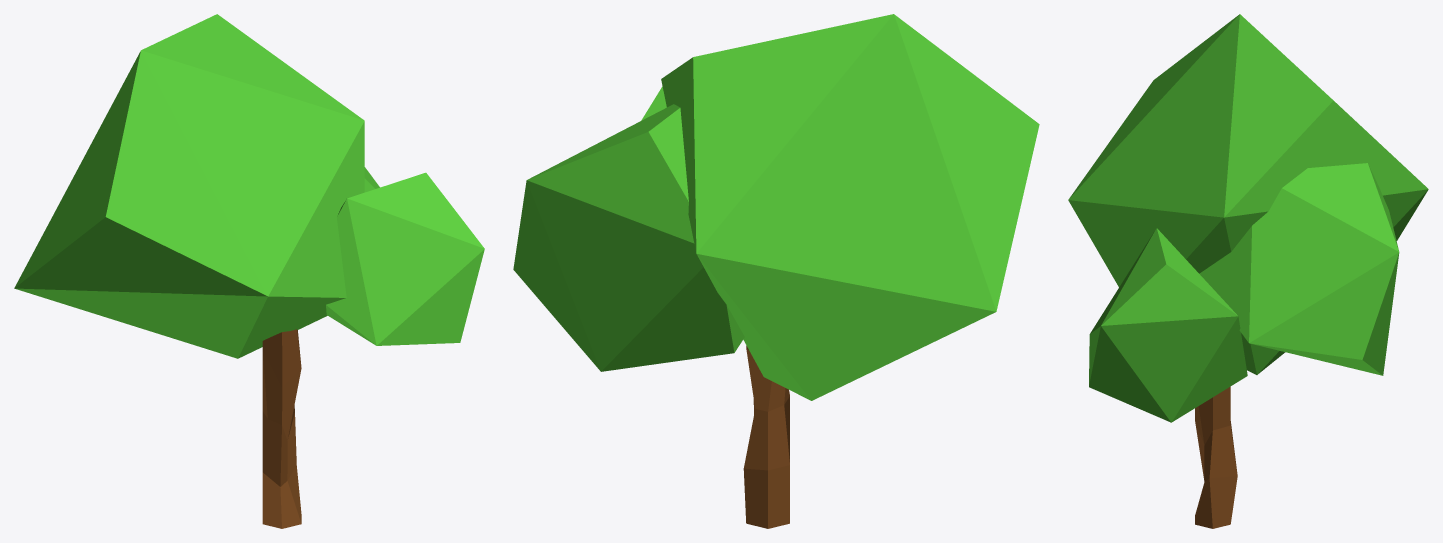
Rendered from tree4.FBX.
3 renders of one model, left to right at view 1: azimuth 30°, elevation 25°; view 2: azimuth 150°, elevation 25°; view 3: azimuth 270°, elevation 25°, orthographic. The views are drawn at different scales.
Visible parts, largest first — view 1: Cylinder094; view 2: Cylinder094; view 3: Cylinder094.
Boxes of the visible parts, x1,y1,x2,y2 form: Cylinder094: (14,14,484,528); Cylinder094: (513,14,1039,528); Cylinder094: (1068,14,1428,528).
Bounding box in the file's own units: 41.05 × 50.5 × 36.72.
